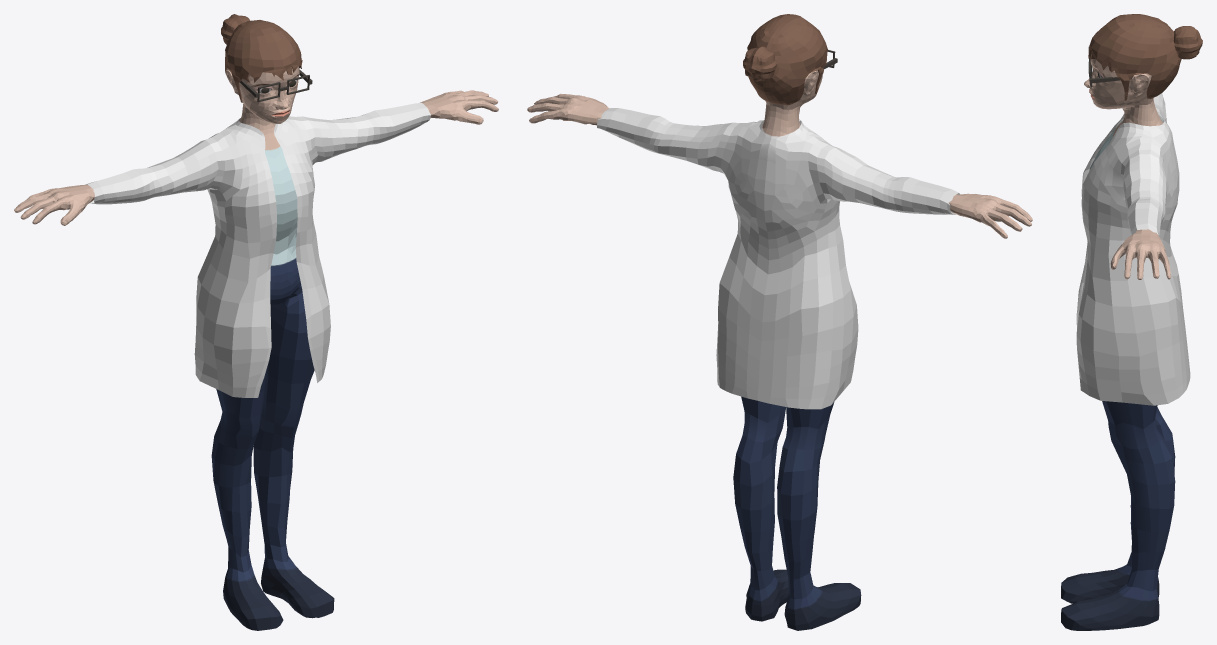
The model's file is Human_Sara_Tpose_FBX.fbx.
3 renders of one model, left to right at view 1: azimuth 30°, elevation 25°; view 2: azimuth 150°, elevation 25°; view 3: azimuth 270°, elevation 25°, orthographic. The views are drawn at different scales.
Visible parts, largest first — view 1: SARA1Shape; view 2: SARA1Shape; view 3: SARA1Shape.
Boxes of the visible parts, x1,y1,x2,y2 form: SARA1Shape: (14,14,498,630); SARA1Shape: (527,14,1032,630); SARA1Shape: (1061,14,1202,630).
Size of the model in its own units: 16.72 by 19.26 by 4.17.
Materials: 3 (3 with a texture image).
